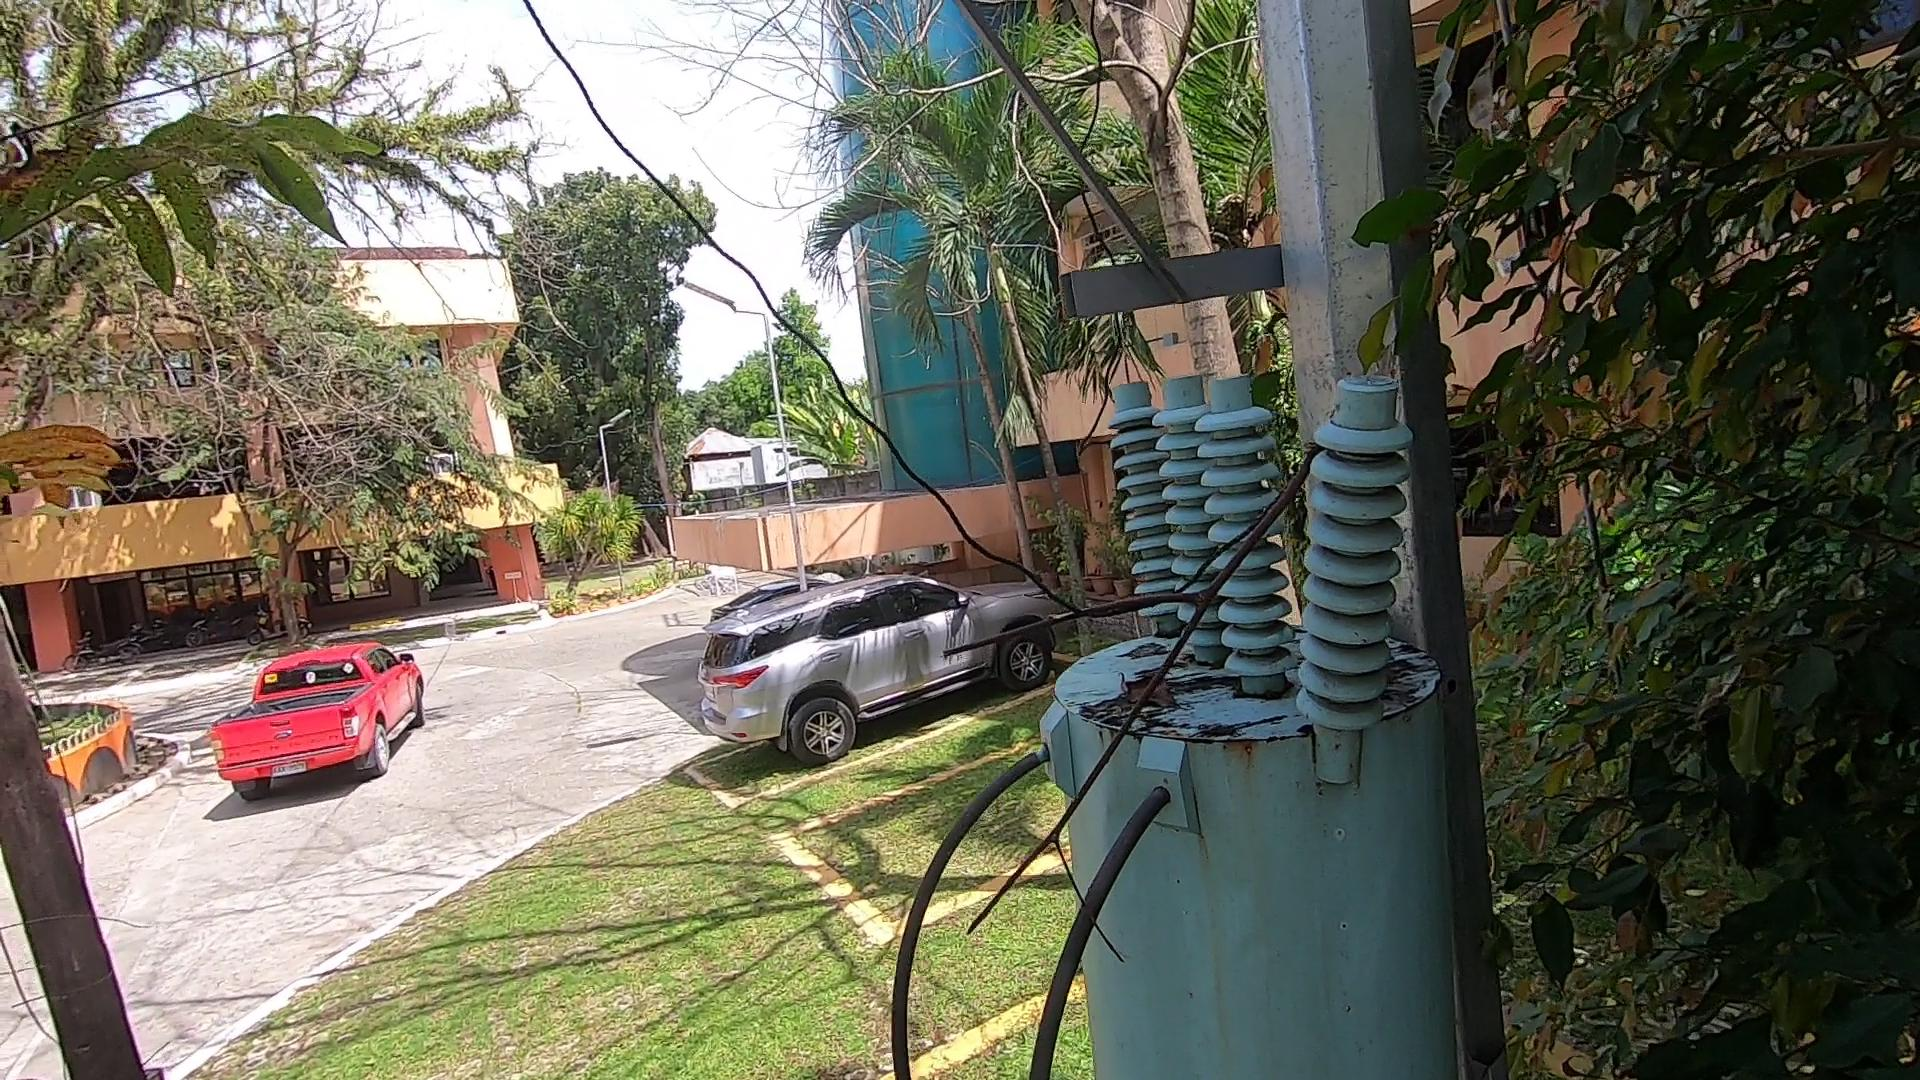leaf: (1106, 659, 1179, 713)
tree branch: (899, 414, 1329, 914)
